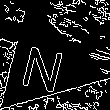N_N: (20, 34, 72, 92)
